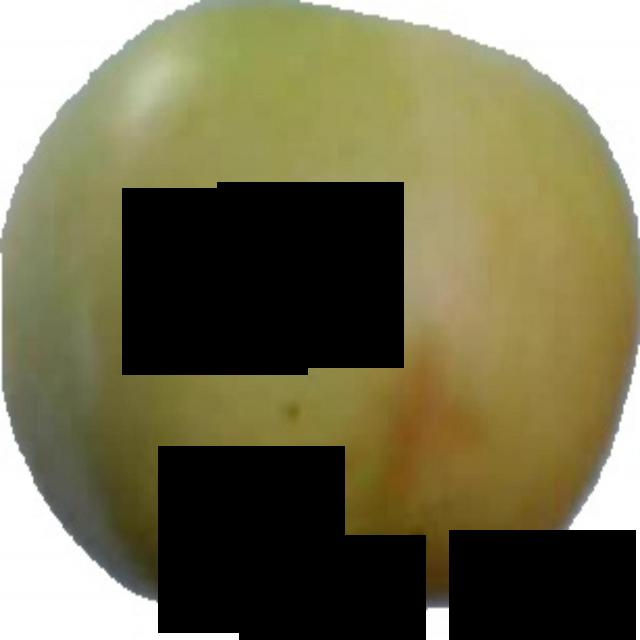apple: (0, 0, 638, 618)
